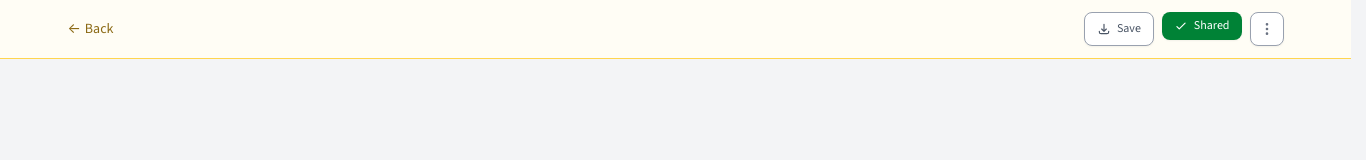
Test: CaseHeader › ShareBar popover › should show "Copied!" when copySuccess is true
# Click "Shared" to open the ShareBar popover
Step 1. Click the button with aria-label "toggle share options" → [1202, 26], box [1162,12,1242,40]
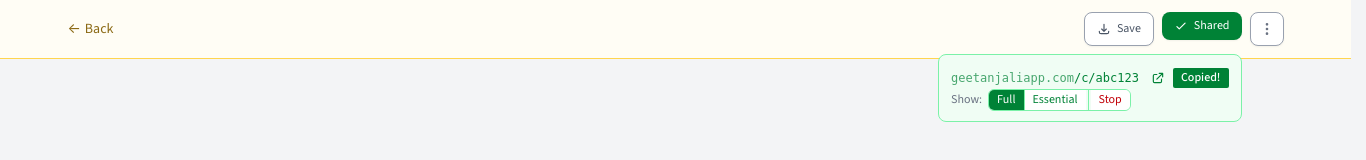
Check: the button "Copied!" is shown, box [1173,68,1228,88]
